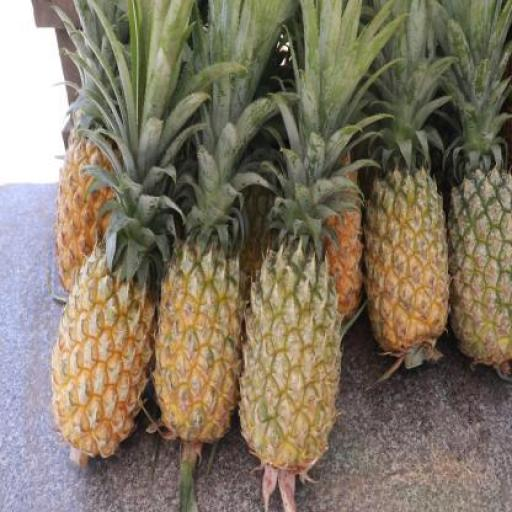------------------------------: (241, 253, 342, 469)
Pineapple - v8 v1: (52, 247, 160, 459), (154, 250, 246, 448), (365, 171, 450, 351), (59, 137, 131, 315)
